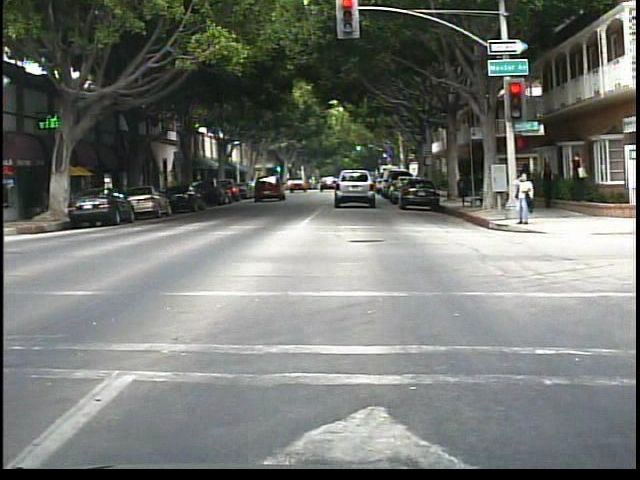person: (510, 169, 536, 227), (567, 149, 592, 203), (538, 159, 561, 216), (517, 158, 535, 211)
